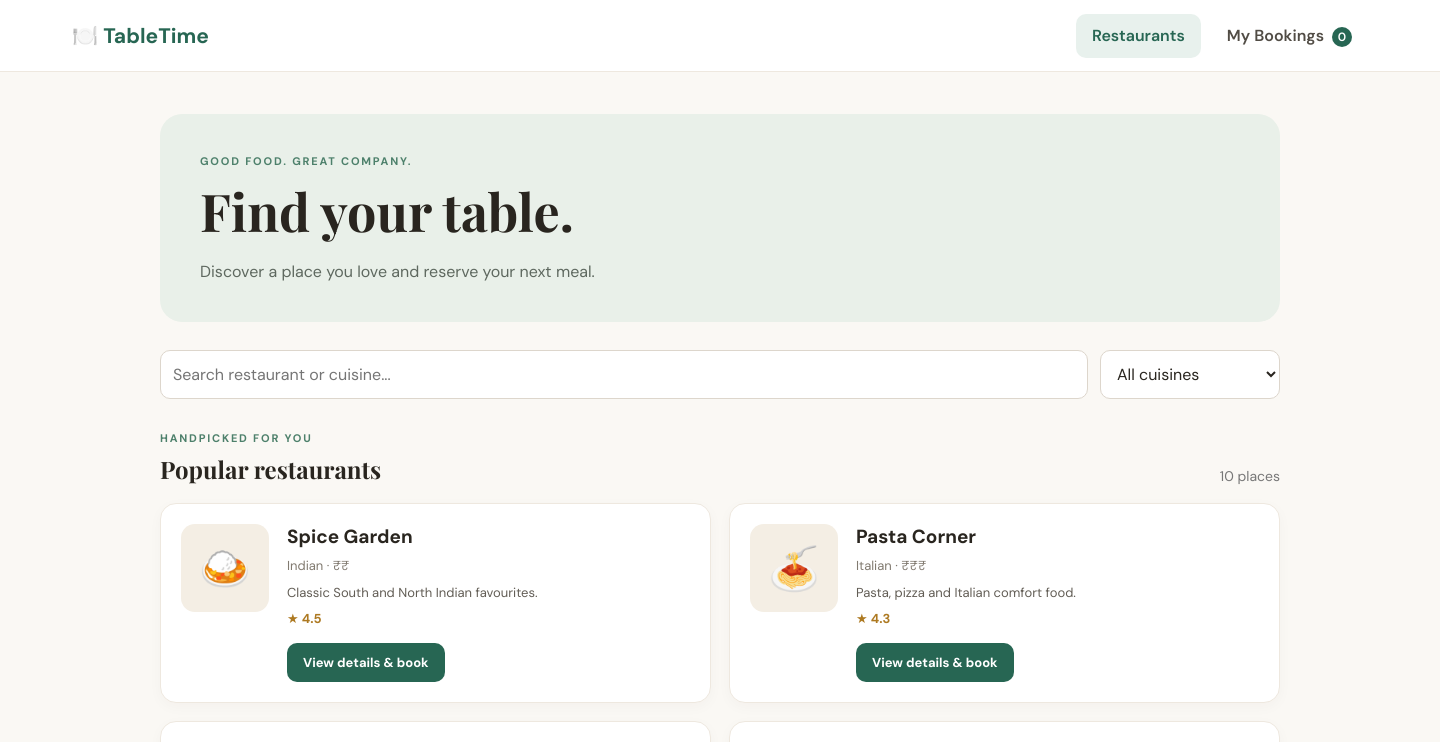
Test case: Restaurant Reservation Components › searches restaurants by name
This screenshot has width=1440, height=742.
Type "Sushi" into the field named "Search restaurants" at {"x": 624, "y": 374}, box [160, 350, 1088, 399]
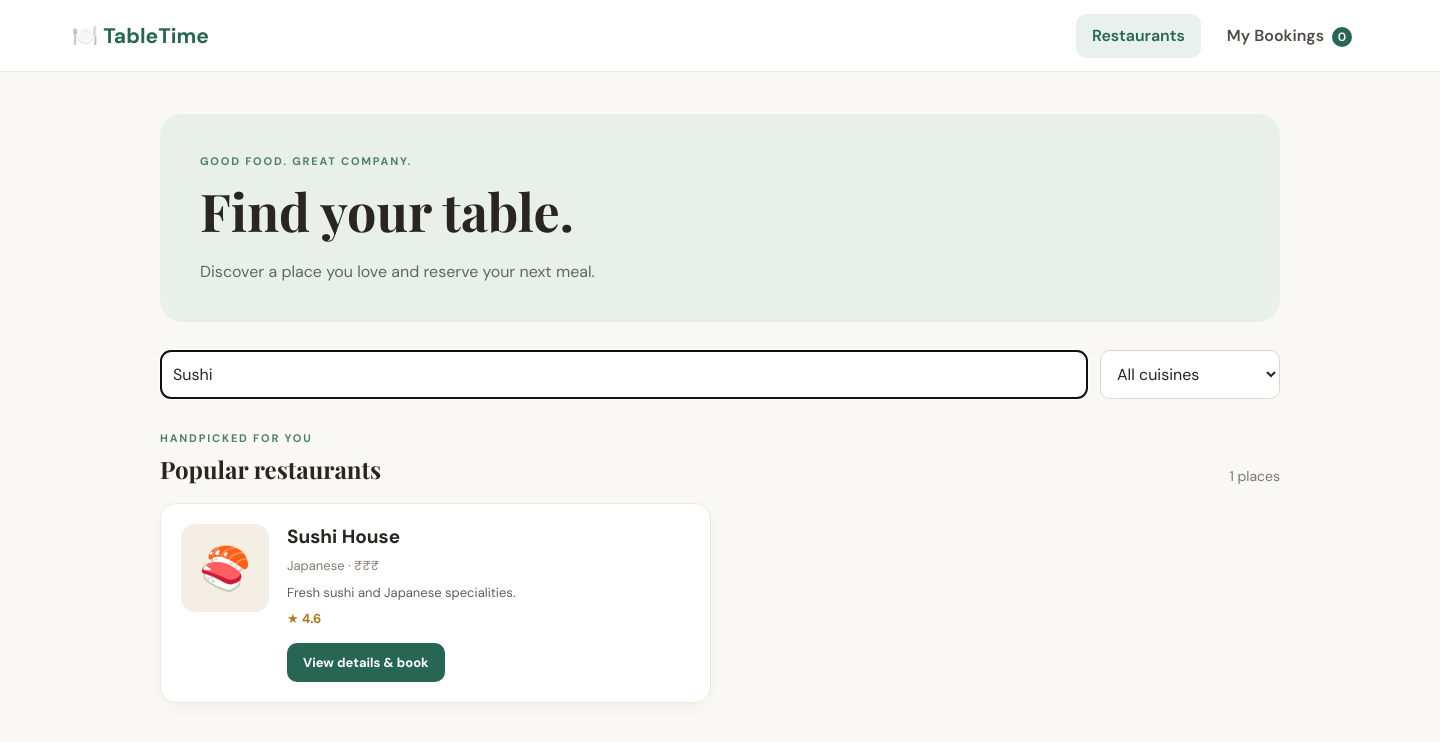
expect the heading "Sushi House" is shown: met, box [287, 524, 400, 549]
expect the heading "Pasta Corner" is gone: met
